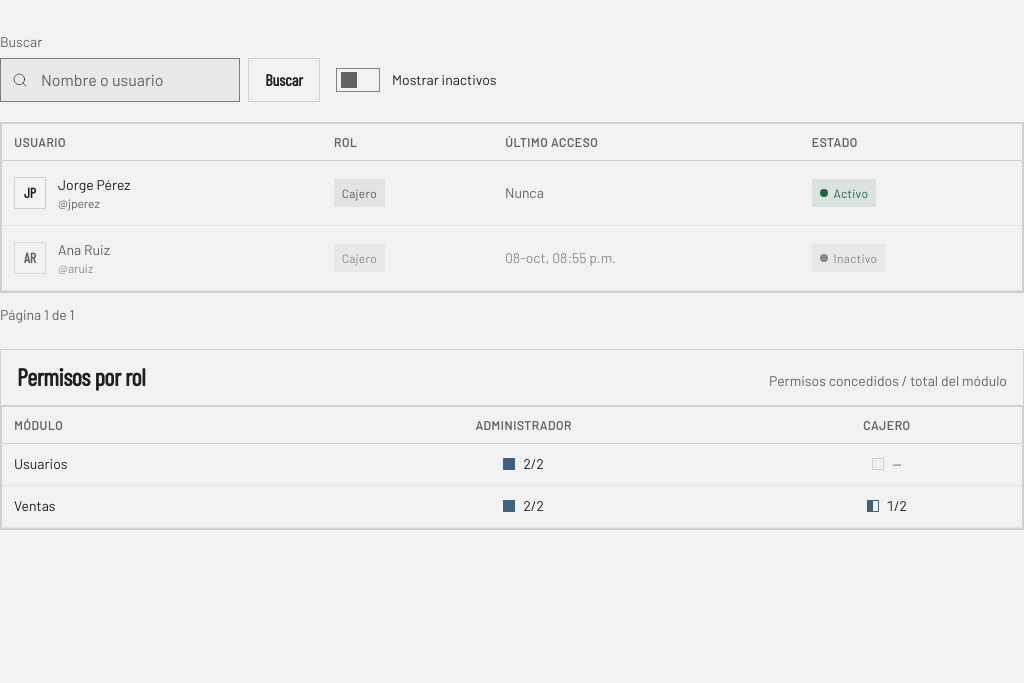
Scenario: Usuarios (7.1) › restablece la contraseña: confirma, muestra la temporal una sola vez y avisa
The width and height of the screenshot is (1024, 683).
Click the button with aria-label "Editar Jorge Pérez": (72, 192) [14,170,131,214]
(page scrolled)
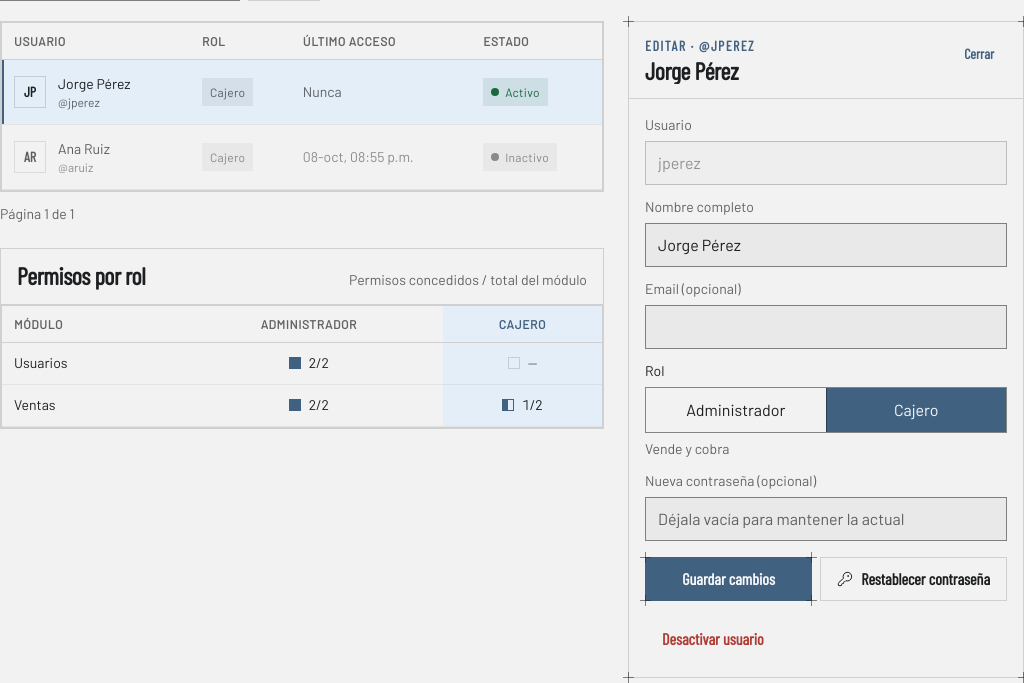
Click the button "Restablecer contraseña": (914, 579) [820,557,1007,601]
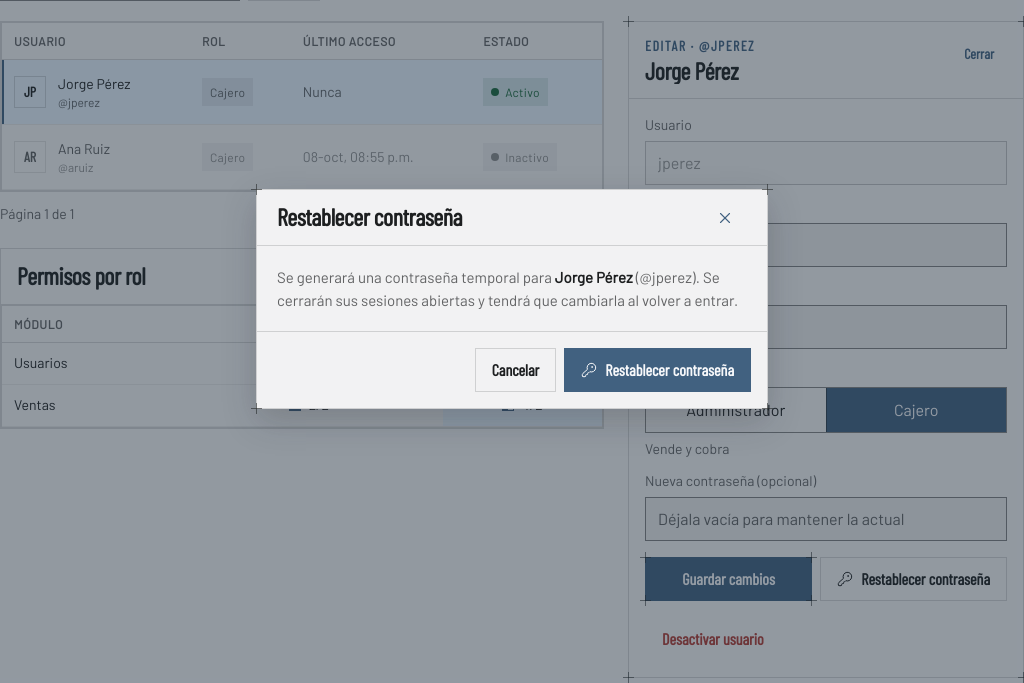
Click the button "Restablecer contraseña": (658, 370) [564,348,751,392]
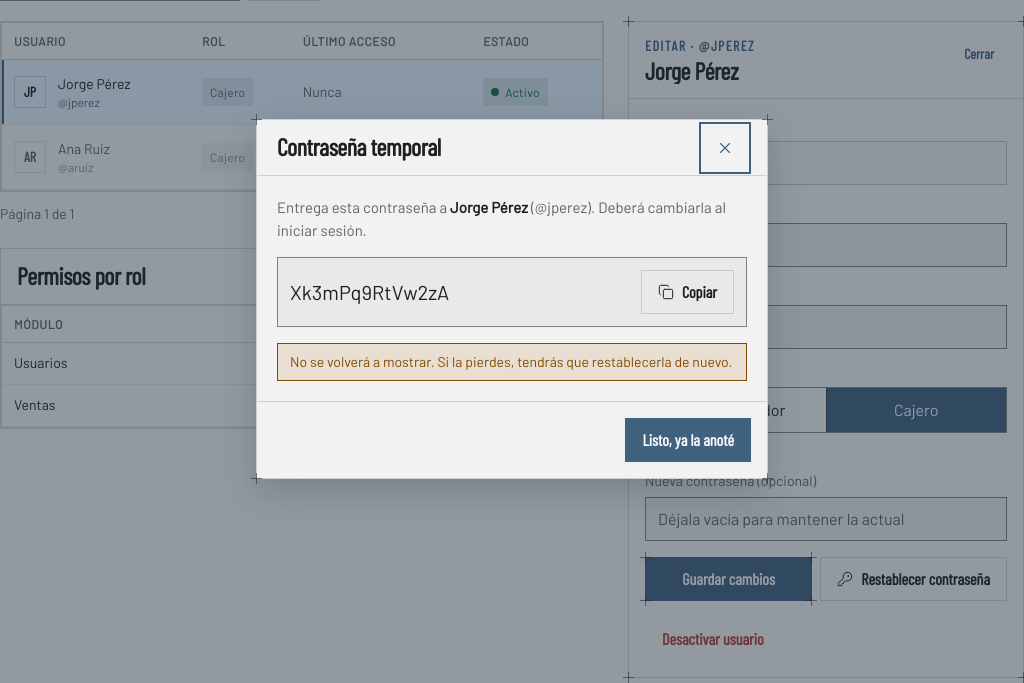
Check: the text with test id "temporary-password" reads "Xk3mPq9RtVw2zA", box [290,280,449,304]
Check: the text "No se volverá a mostrar" is shown, box [290,353,732,370]
Click the button "Copiar": (688, 292) [641,270,734,314]
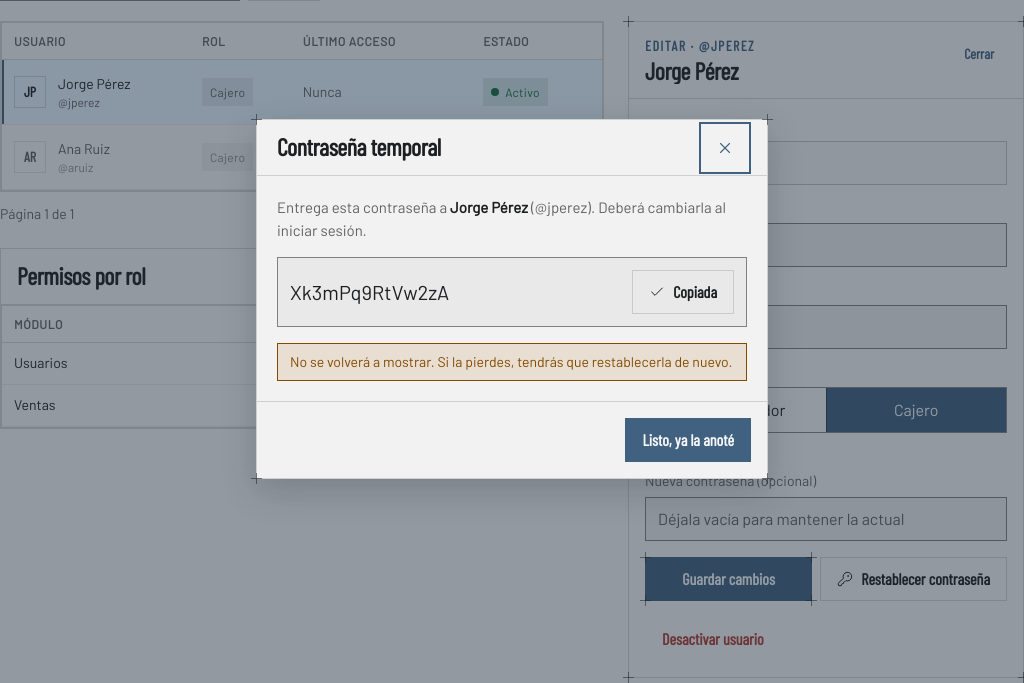
Click the button "Listo, ya la anoté": (688, 440) [625,418,751,462]
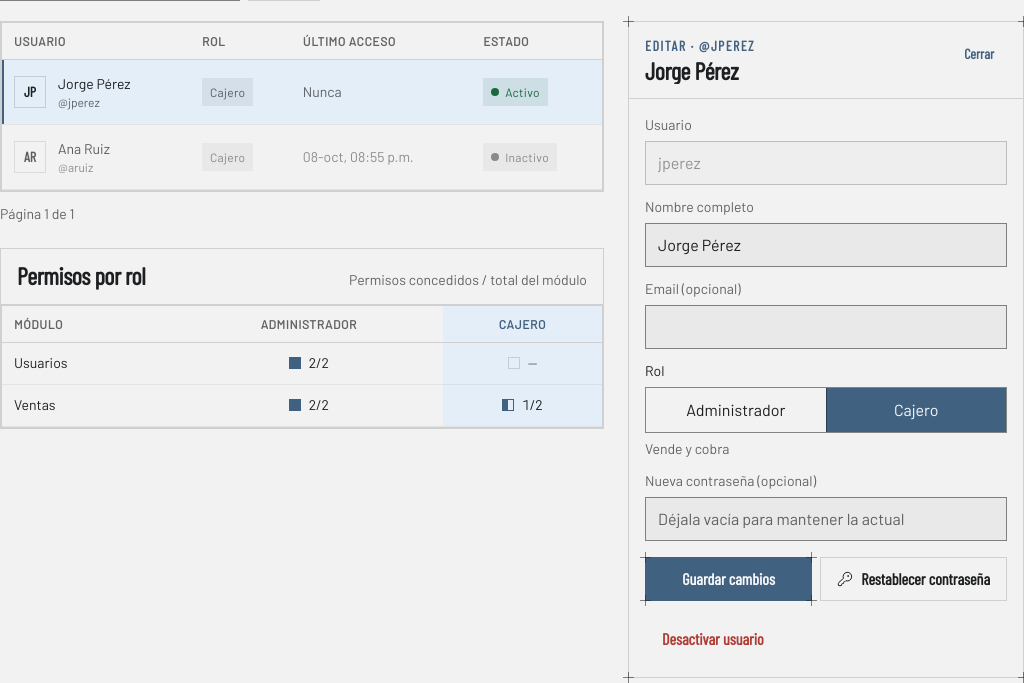
Check: the text with test id "temporary-password" is gone
Check: the text "Xk3mPq9RtVw2zA" is gone
